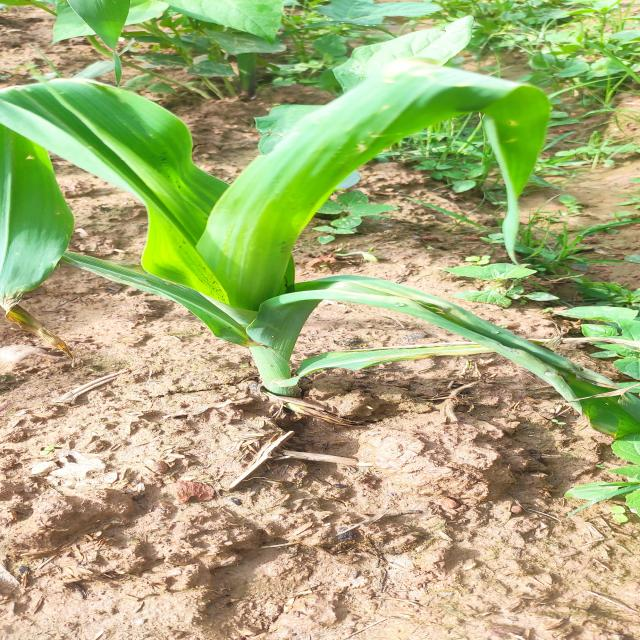maize: (24, 74, 455, 403)
weed: (14, 0, 640, 70), (559, 294, 640, 388)
